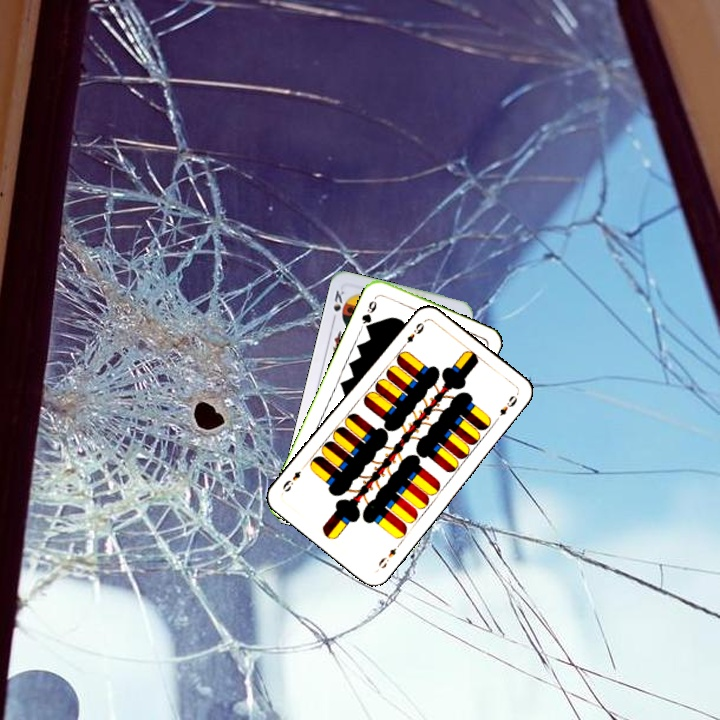E9: (398, 318, 427, 351), (374, 539, 403, 571)
G9: (357, 292, 380, 333)
SK: (328, 286, 347, 325)
